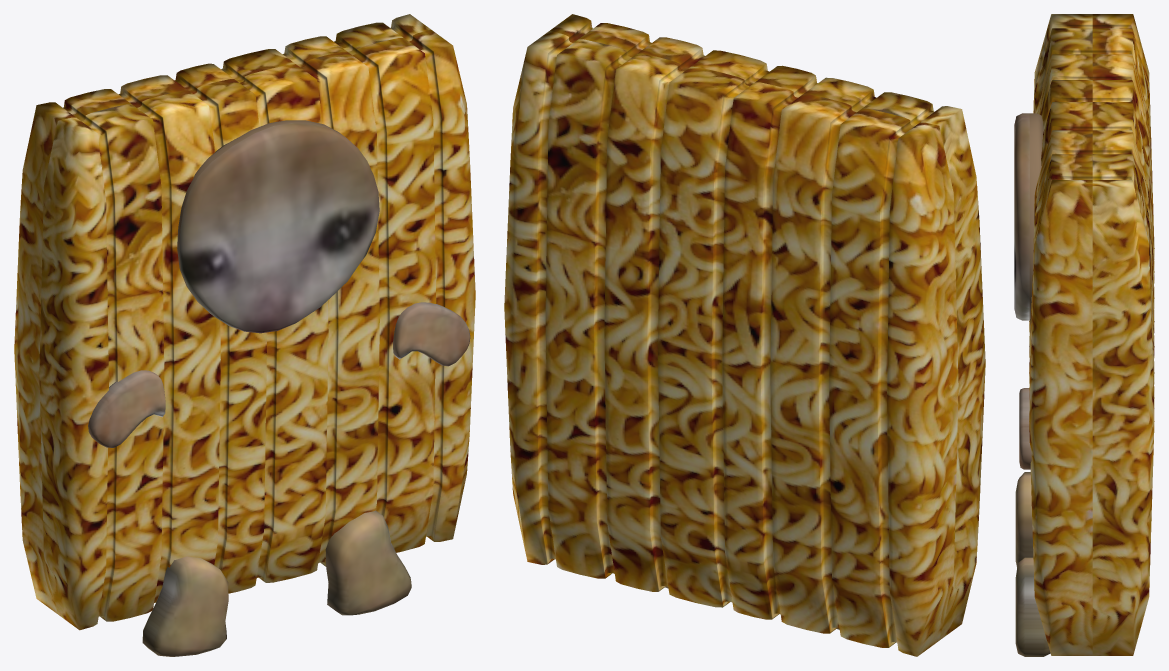
The model's file is noodle_cat_meme_low_poly.glb.
The picture shows the model from 3 angles, left to right: view 1: azimuth 30°, elevation 25°; view 2: azimuth 150°, elevation 25°; view 3: azimuth 270°, elevation 25°; orthographic projection. The views are drawn at different scales.
Parts seen in each view (by area): view 1: NoodleCat_0; view 2: NoodleCat_0; view 3: NoodleCat_0.
Part boxes in pixels (<box>): NoodleCat_0: <box>14,14,475,656</box>; NoodleCat_0: <box>504,14,985,656</box>; NoodleCat_0: <box>1014,14,1154,656</box>.
Size of the model in its own units: 13.02 by 16.11 by 4.05.
Materials: 2 (2 with a texture image).
